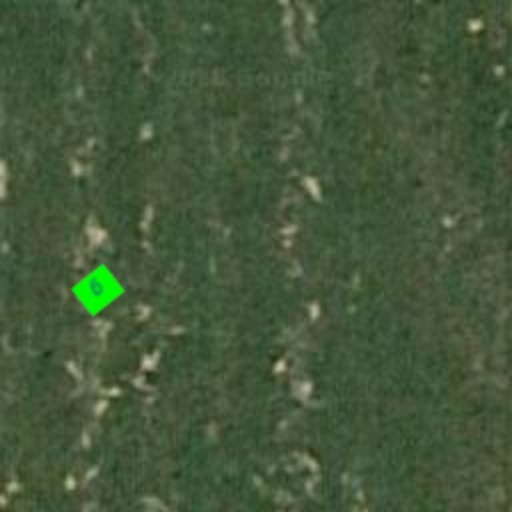rectangle: (68, 260, 128, 320)
